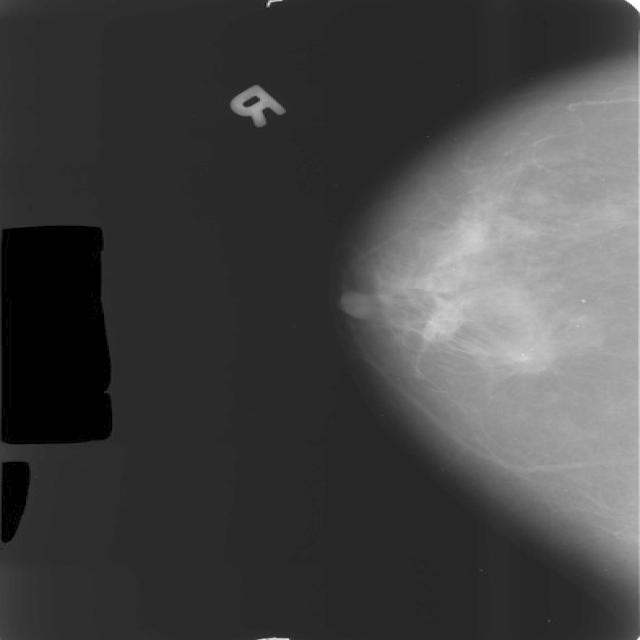tumour: (500, 340, 552, 371)
